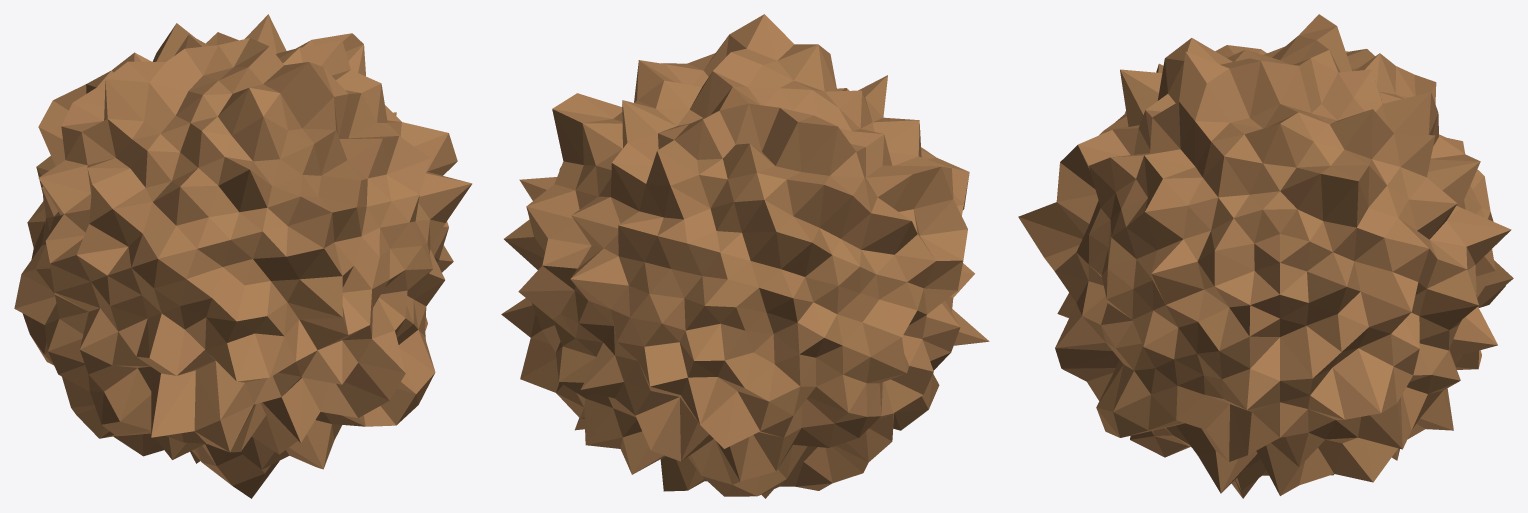
File: tinker.obj
3 renders of one model, left to right at view 1: azimuth 30°, elevation 25°; view 2: azimuth 150°, elevation 25°; view 3: azimuth 270°, elevation 25°, orthographic. The views are drawn at different scales.
Visible parts, largest first — view 1: obj_0; view 2: obj_0; view 3: obj_0.
Part boxes in pixels (x1,y1,x2,y2): obj_0: (14,14,472,498); obj_0: (501,14,989,498); obj_0: (1018,14,1513,498).
Size of the model in its own units: 28.64 by 30.54 by 29.7.
